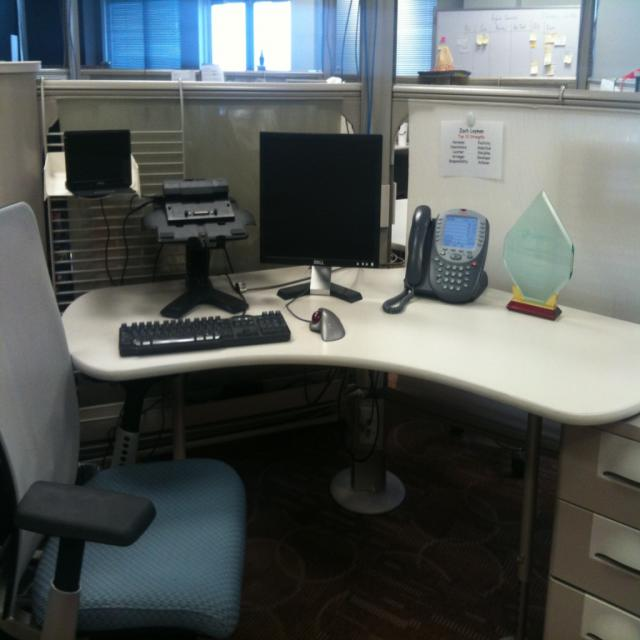chair: (0, 199, 243, 640)
desk: (61, 266, 640, 640)
keyboard: (117, 309, 291, 355)
mouse: (310, 308, 346, 342)
tv: (258, 132, 384, 270)
